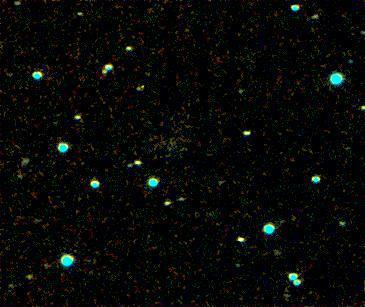star: (130, 71, 160, 101)
